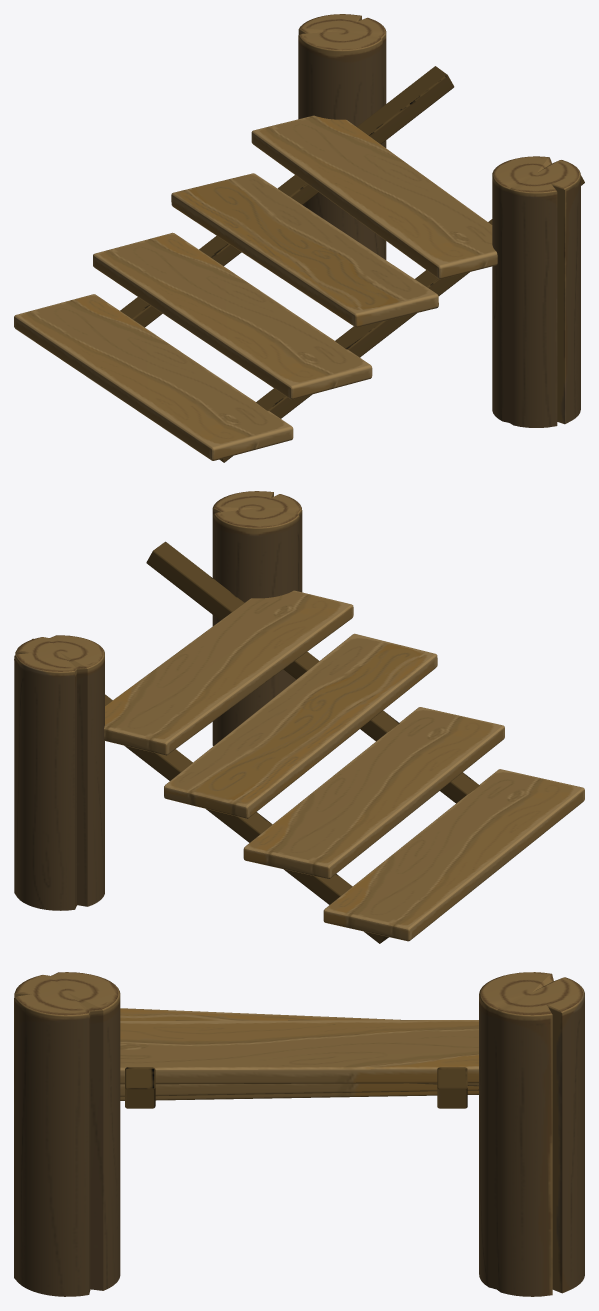
Rendered from Bryggtrapp.fbx.
3 views of the same model, one above another, from view 1: azimuth 30°, elevation 25°; view 2: azimuth 150°, elevation 25°; view 3: azimuth 270°, elevation 25° (orthographic). The views are drawn at different scales.
Parts seen in each view (by area): view 1: polySurface41; view 2: polySurface41; view 3: polySurface41.
Boxes of the visible parts, x1=… form: polySurface41: x1=14, y1=14, x2=584, y2=462; polySurface41: x1=14, y1=491, x2=584, y2=943; polySurface41: x1=14, y1=972, x2=584, y2=1296.
Size of the model in its own units: 3.21 by 1.77 by 3.24.
